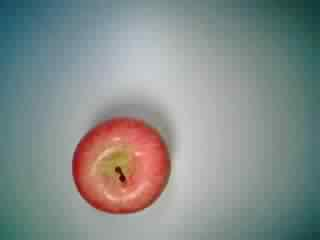apple: (69, 114, 173, 218)
